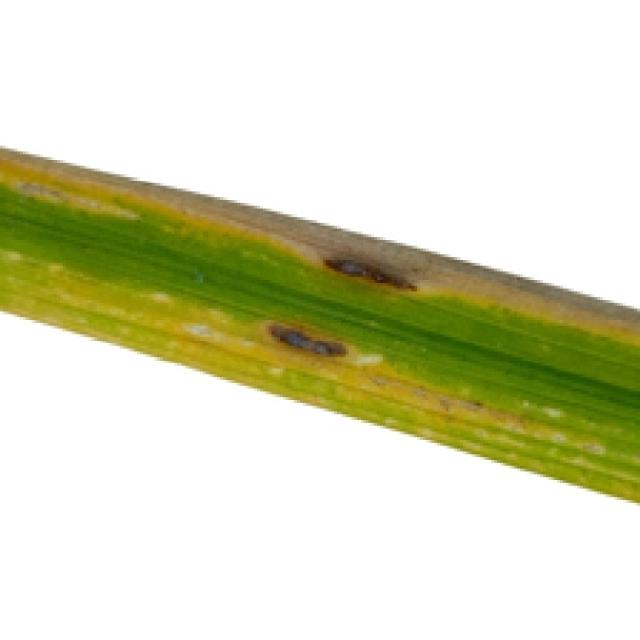Rice___Bacterial_Leaf_Blight: (0, 140, 637, 504)
